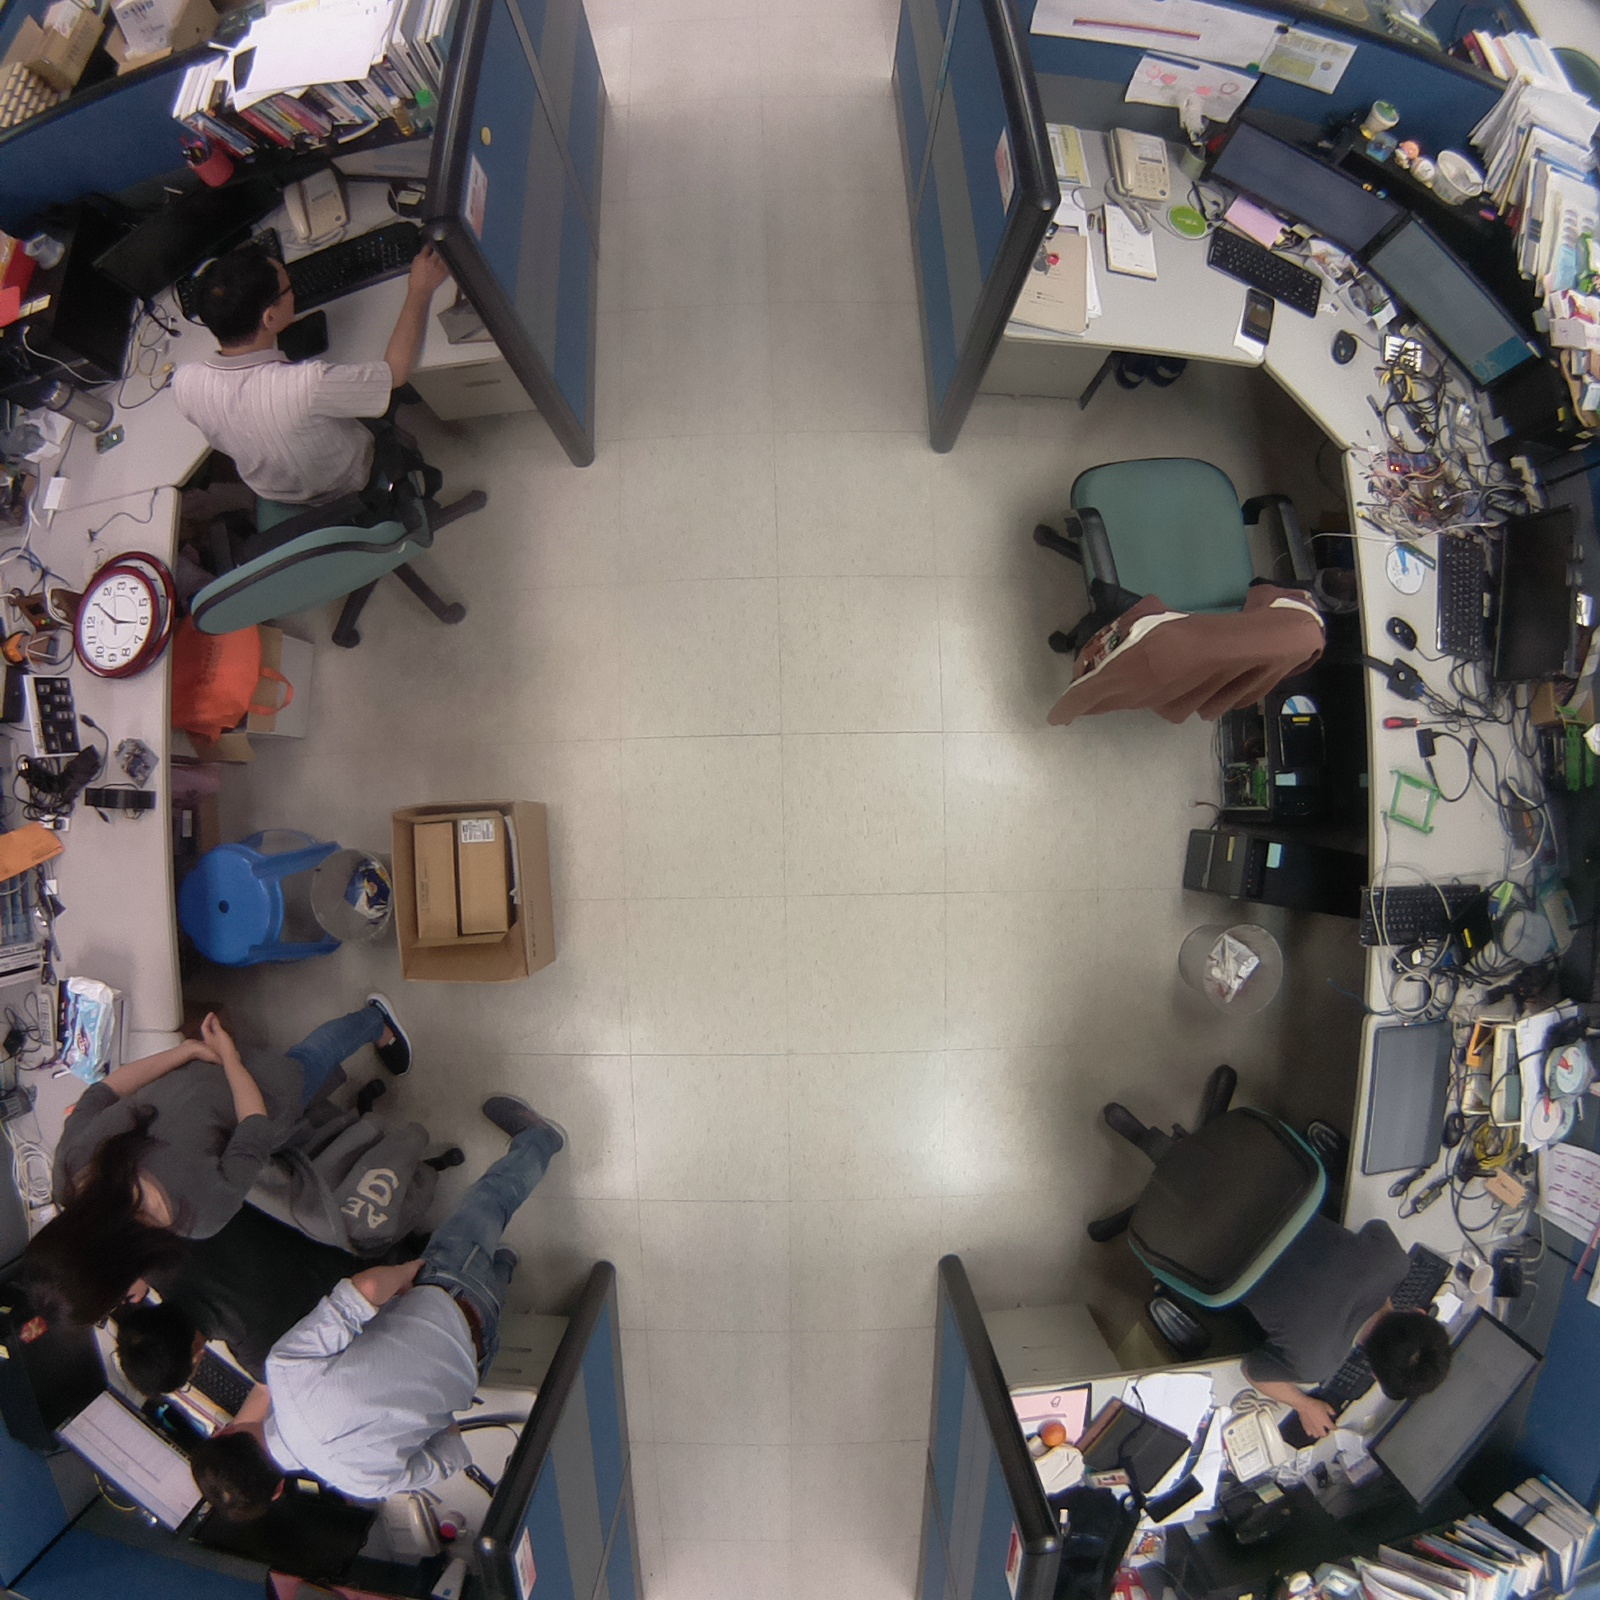chair: (1004, 424, 1329, 737)
head: (1, 1198, 139, 1341), (172, 1427, 301, 1529), (182, 239, 307, 341), (101, 1300, 217, 1400), (1350, 1306, 1458, 1406)
sitting: (165, 235, 522, 678), (1076, 1055, 1464, 1455)
standing: (173, 1083, 578, 1532), (1, 984, 435, 1329)
